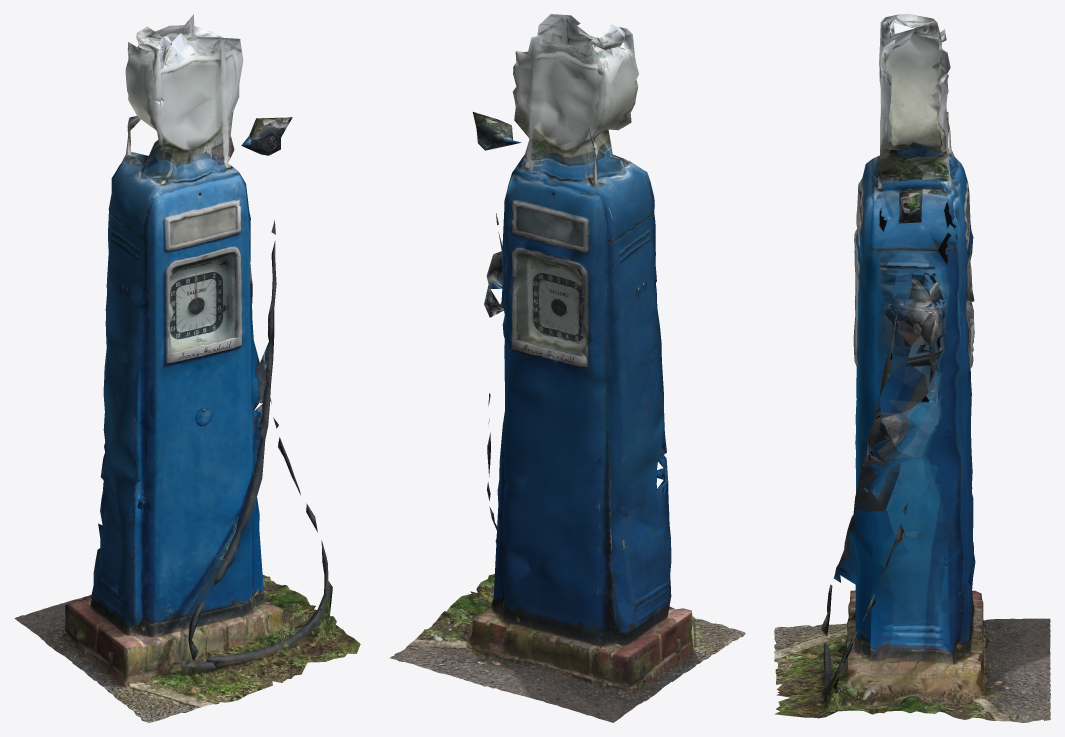
3 views of the same model, side by side, from view 1: azimuth 30°, elevation 25°; view 2: azimuth 150°, elevation 25°; view 3: azimuth 270°, elevation 25° (orthographic). The views are drawn at different scales.
Parts seen in each view (by area): view 1: Pump Baked; view 2: Pump Baked; view 3: Pump Baked.
Boxes of the visible parts, left/top/right/bottom form: Pump Baked: left=14, top=14, right=360, bottom=722; Pump Baked: left=390, top=14, right=745, bottom=722; Pump Baked: left=774, top=14, right=1050, bottom=722.
Size of the model in its own units: 54.14 by 146 by 56.31.
1 material, 1 textured.
